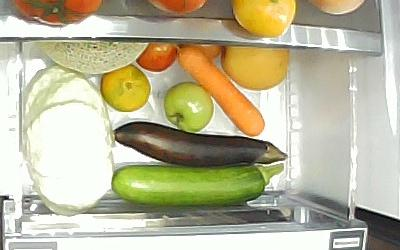cabbage: (23, 66, 114, 217)
carrot: (175, 44, 266, 139)
eggplant: (112, 120, 288, 166)
melon: (37, 41, 149, 74)
pear: (222, 46, 291, 92)
prune: (135, 42, 178, 73)
tangerine: (100, 63, 151, 112)
tomato: (164, 81, 214, 134)
zucchini: (111, 162, 285, 208)
